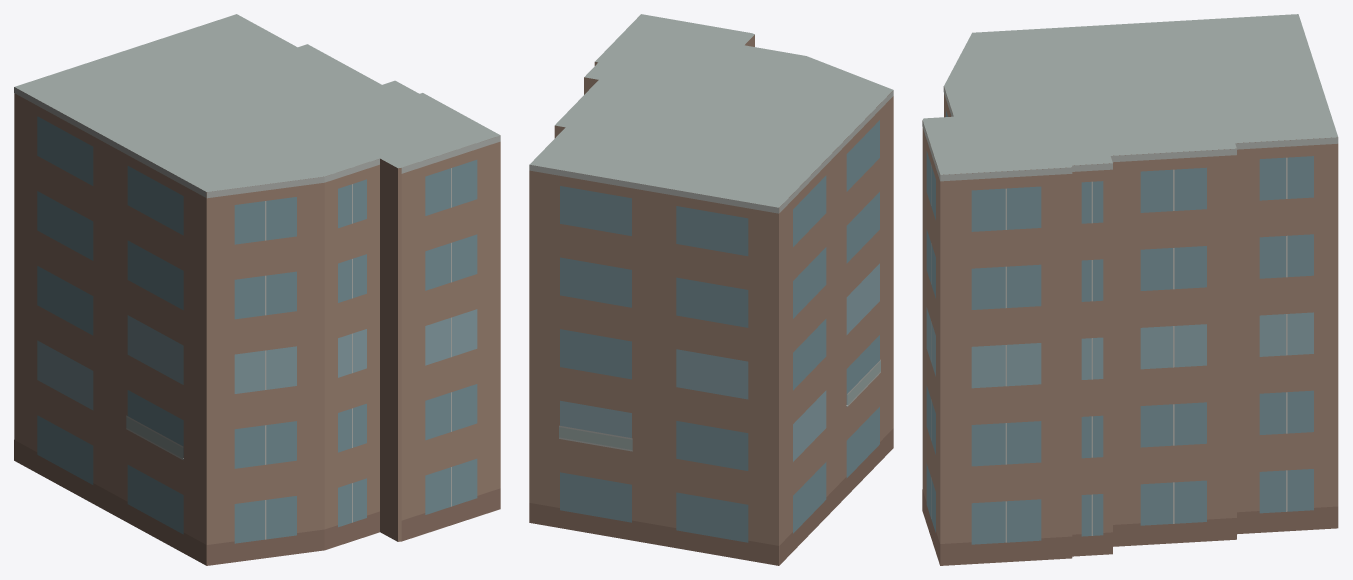
The model's file is survey-upis-32789717.glb.
3 renders of one model, left to right at view 1: azimuth 30°, elevation 25°; view 2: azimuth 150°, elevation 25°; view 3: azimuth 270°, elevation 25°, orthographic. The views are drawn at different scales.
Parts seen in each view (by area): view 1: survey-upis-32789717.tmp; view 2: survey-upis-32789717.tmp; view 3: survey-upis-32789717.tmp.
Part boxes in pixels (left/top/right/bottom): survey-upis-32789717.tmp: left=14, top=14, right=500, bottom=565; survey-upis-32789717.tmp: left=529, top=14, right=893, bottom=565; survey-upis-32789717.tmp: left=922, top=14, right=1338, bottom=565.
Bounding box in the file's own units: 13.12 × 14.85 × 14.32.
